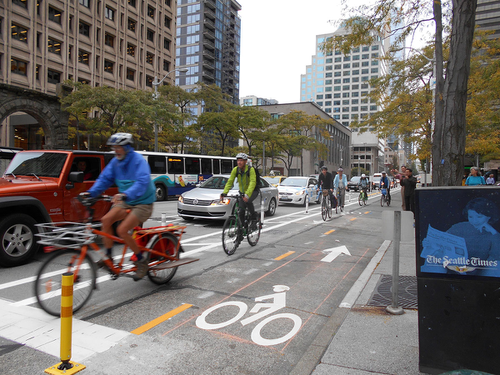bikerider: (32, 126, 193, 313), (211, 150, 269, 253), (308, 162, 335, 221), (326, 166, 351, 213), (372, 166, 397, 210), (350, 172, 372, 209)
